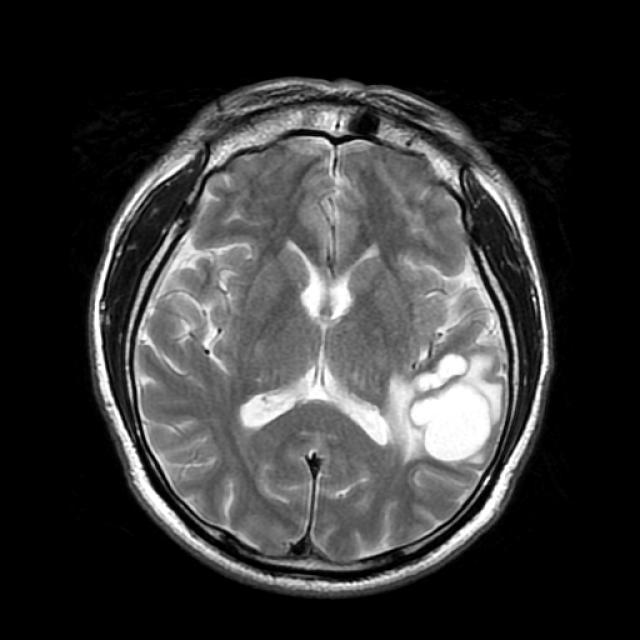Tumor: (401, 354, 509, 466)
